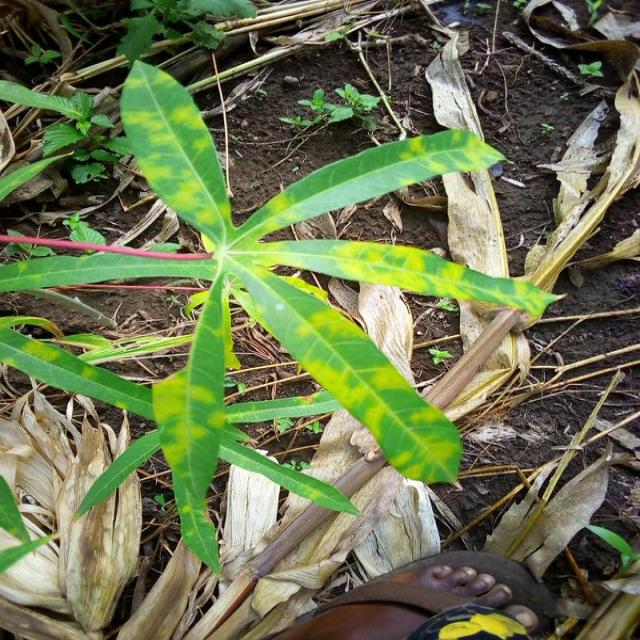cassava leaf: (2, 57, 563, 578)
